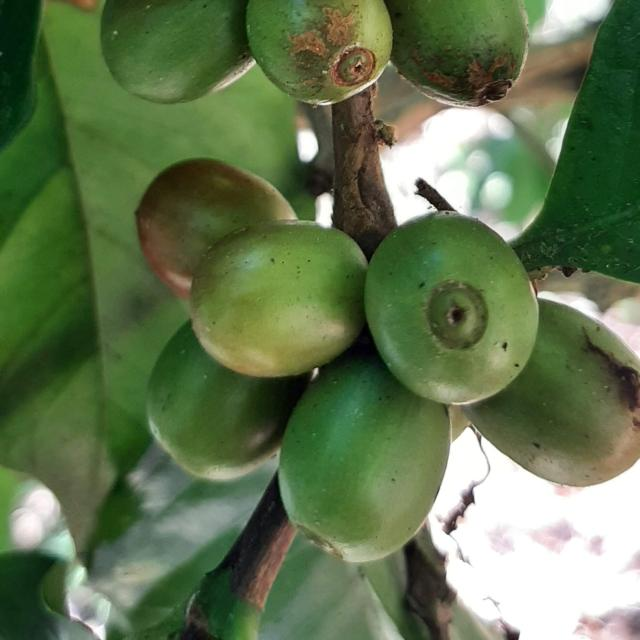green: (278, 348, 451, 563), (365, 211, 540, 404), (463, 299, 640, 487), (190, 220, 367, 378), (146, 322, 309, 482), (100, 0, 254, 103), (386, 0, 530, 106), (247, 0, 393, 104)
red: (135, 158, 297, 298)
